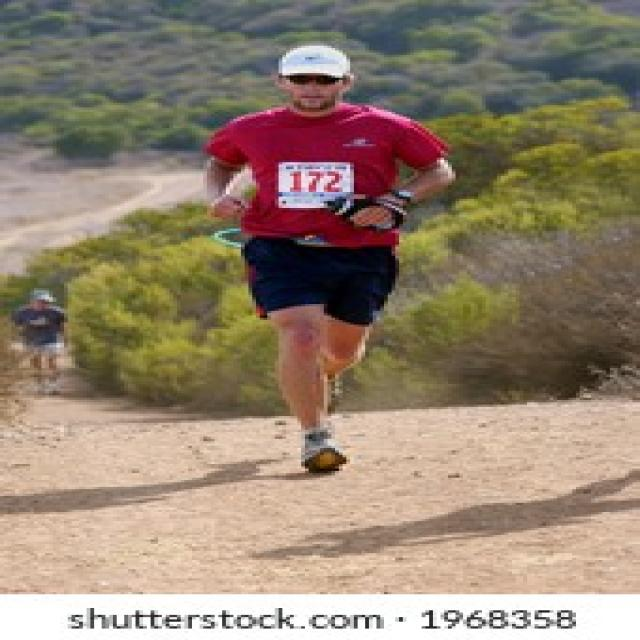running: (192, 40, 461, 479)
